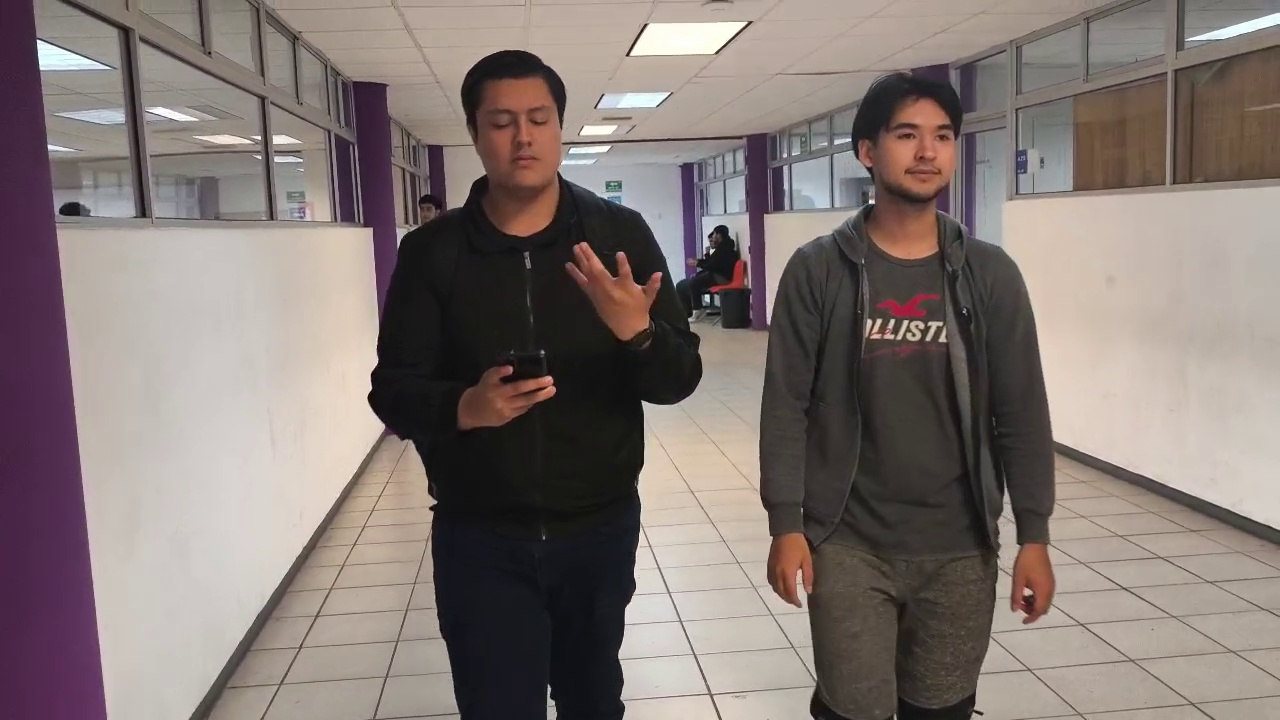mixto2: (491, 339, 551, 387)
